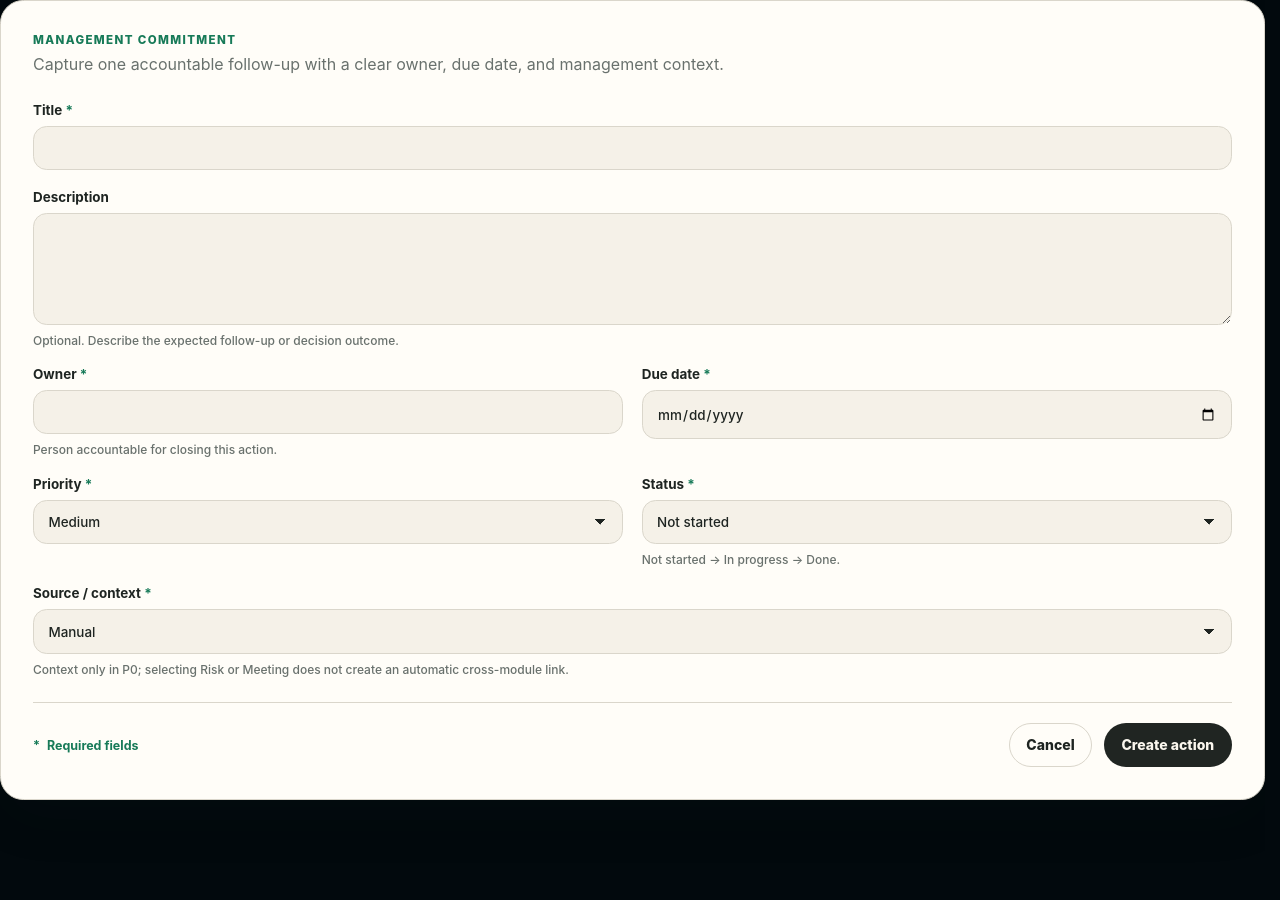
Scenario: ManagementActionForm › validates required fields after interaction
The width and height of the screenshot is (1280, 900).
Click the field labelled "Title *": (632, 148) [33, 126, 1232, 170]
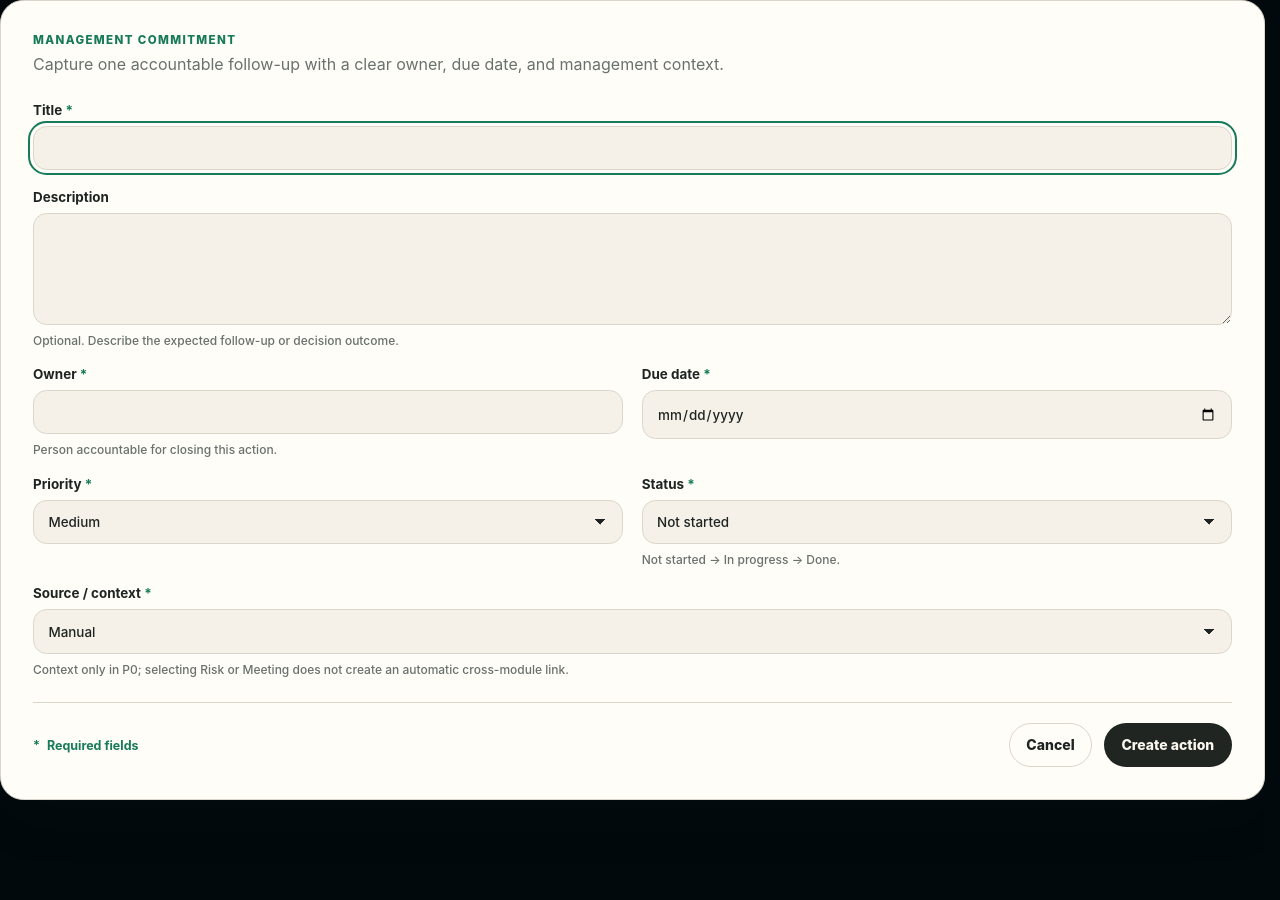
Press Tab
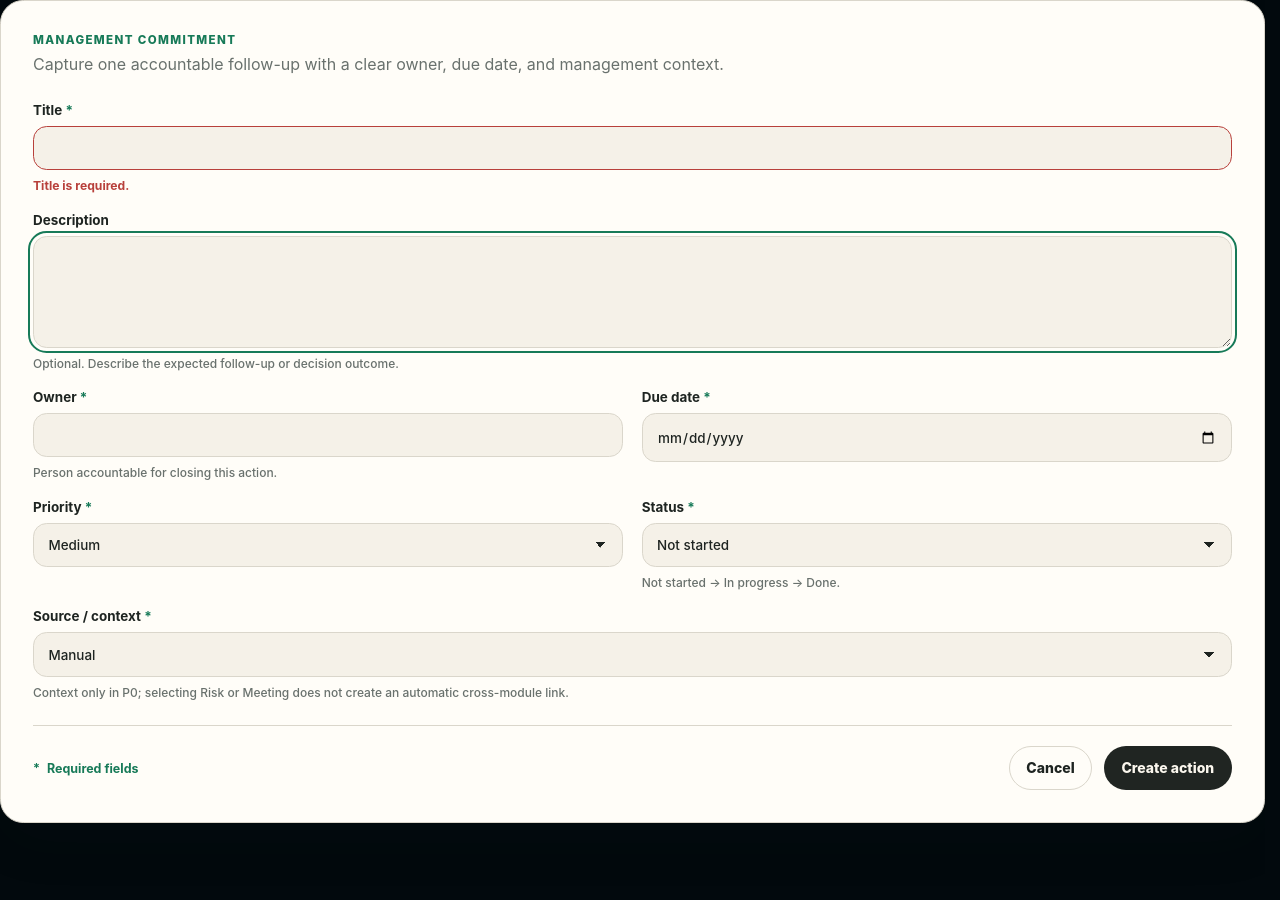
Check: the text "Title is required." is shown, box [33, 178, 129, 193]
